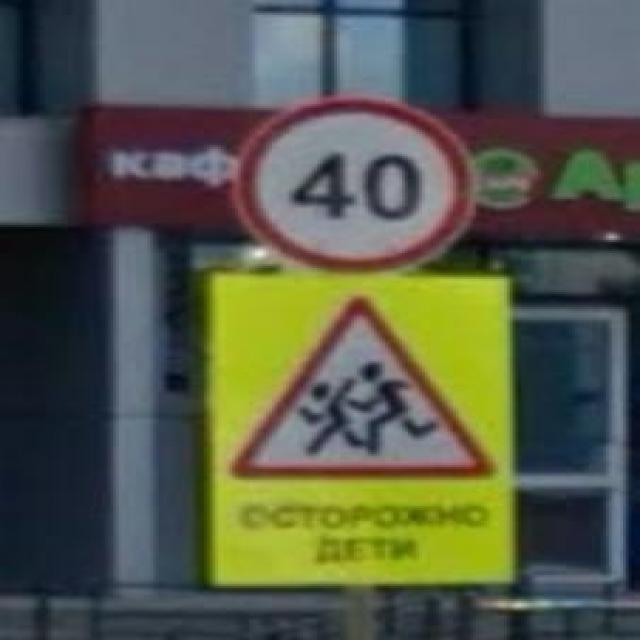traffic_sign: (232, 296, 496, 482), (235, 96, 470, 272)
